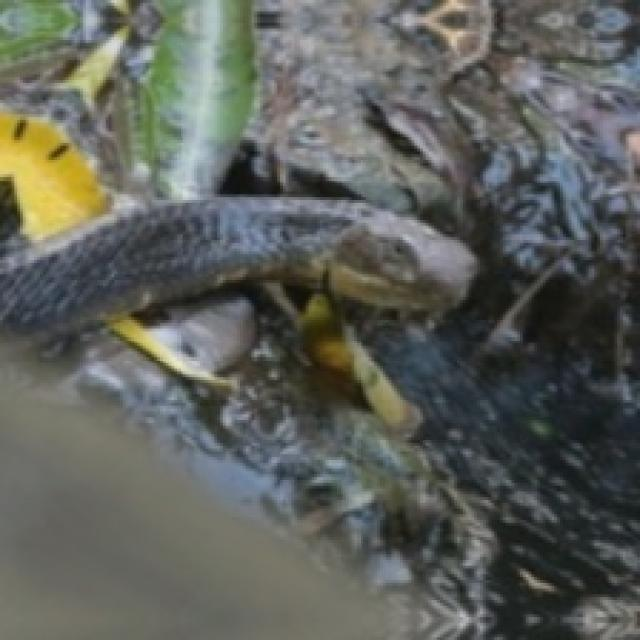king cobra: (0, 197, 474, 331)
